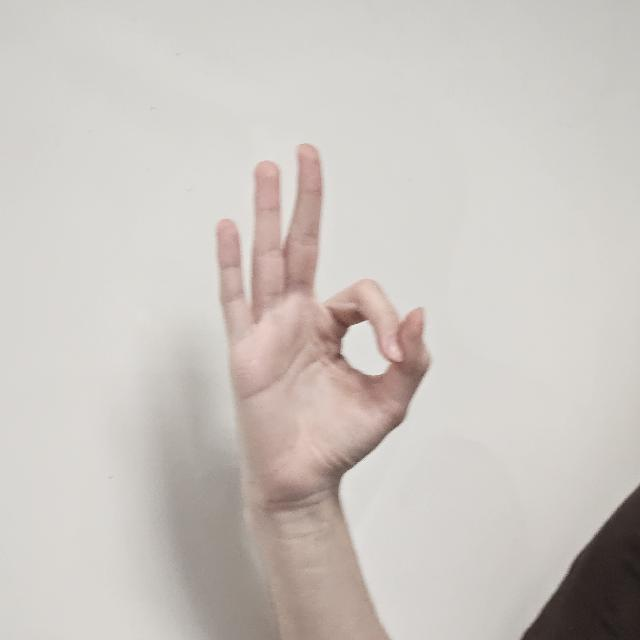Bolinha: (205, 144, 432, 490)
